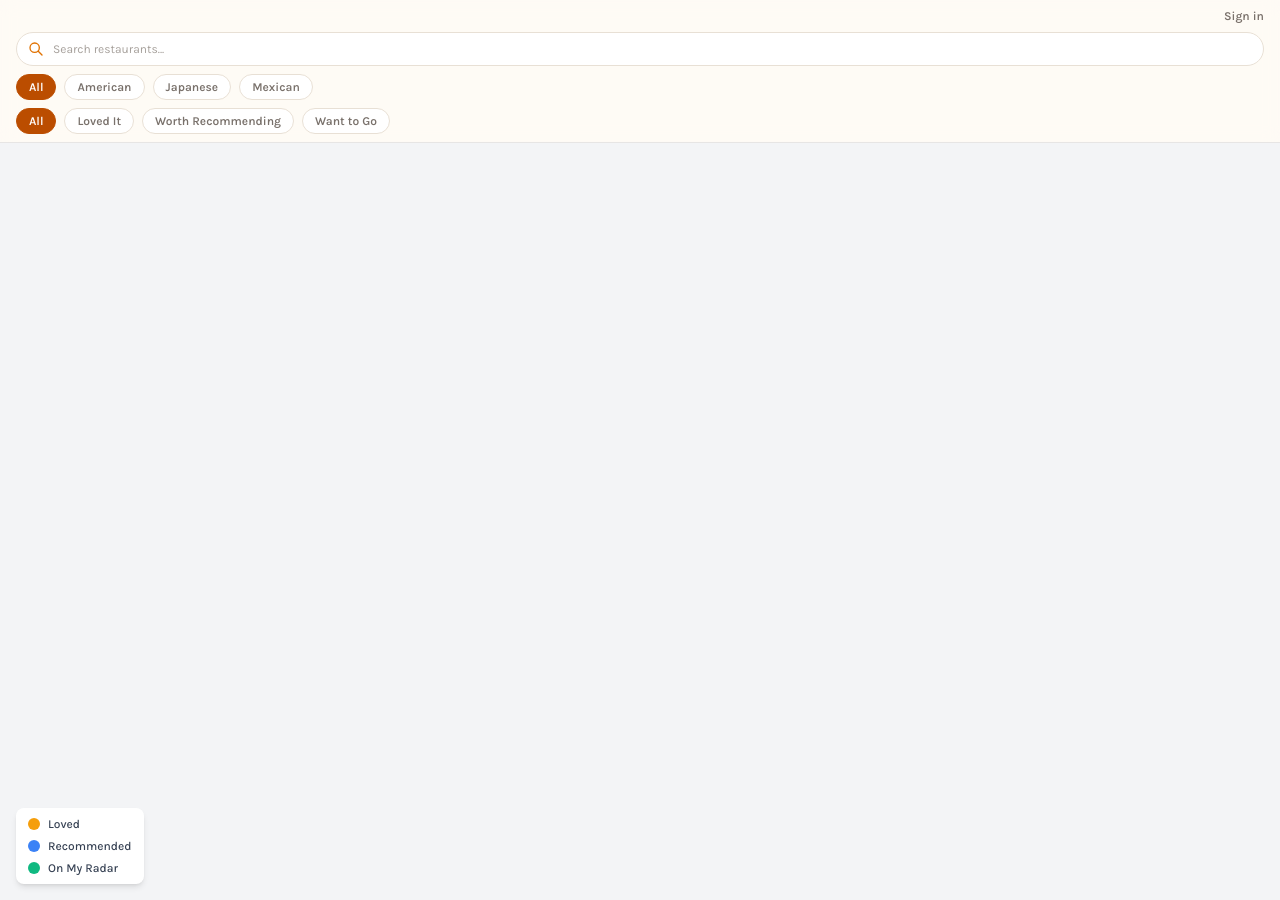
Test case: App — Tier filter integration › 'Clear Filters' appears when tier is the only active filter (D2.5)
This screenshot has width=1280, height=900.
Click the button "Loved It": x=99, y=121 [64,108,134,134]
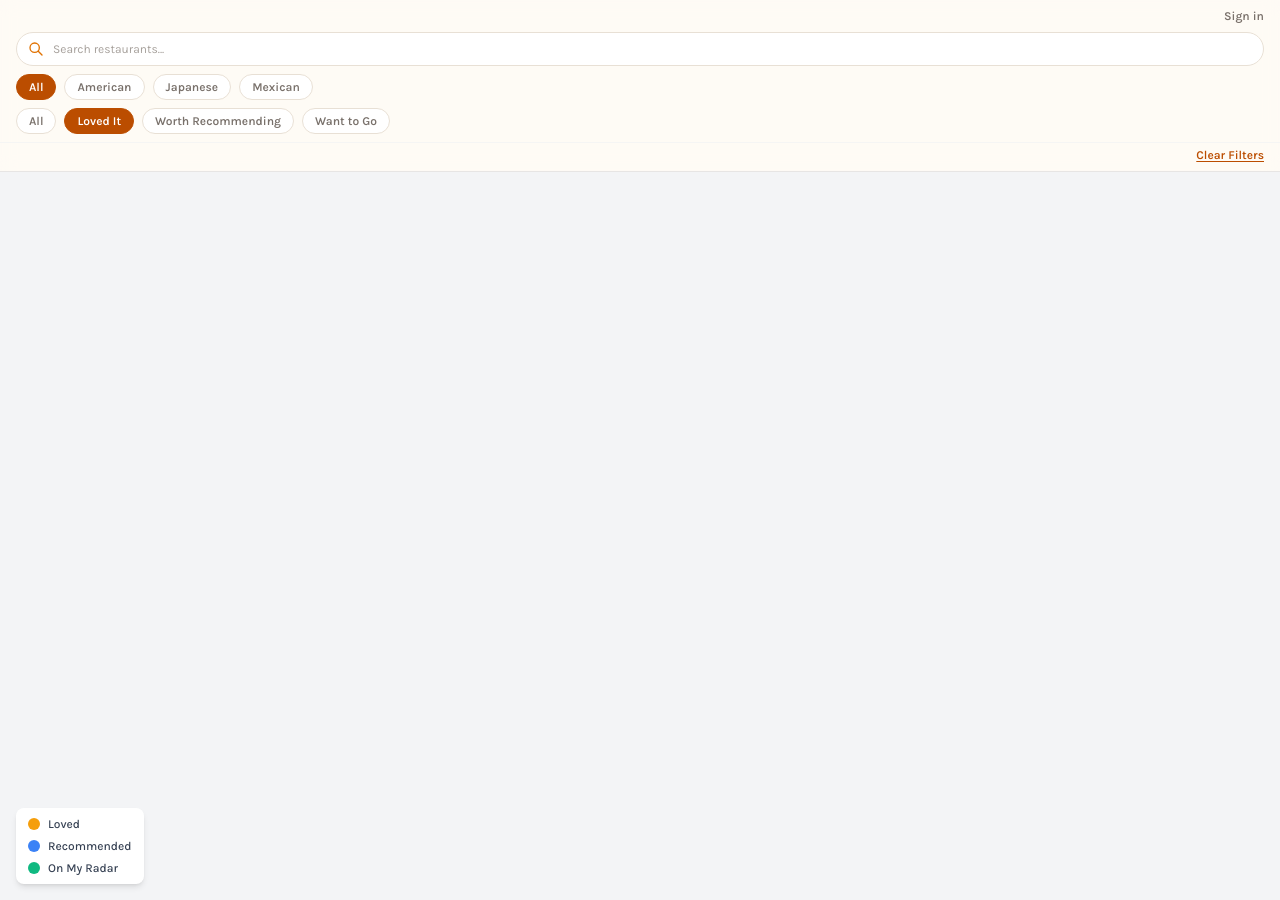
Check: the button with aria-label "Clear all filters" is shown, box [1196,147,1264,163]
